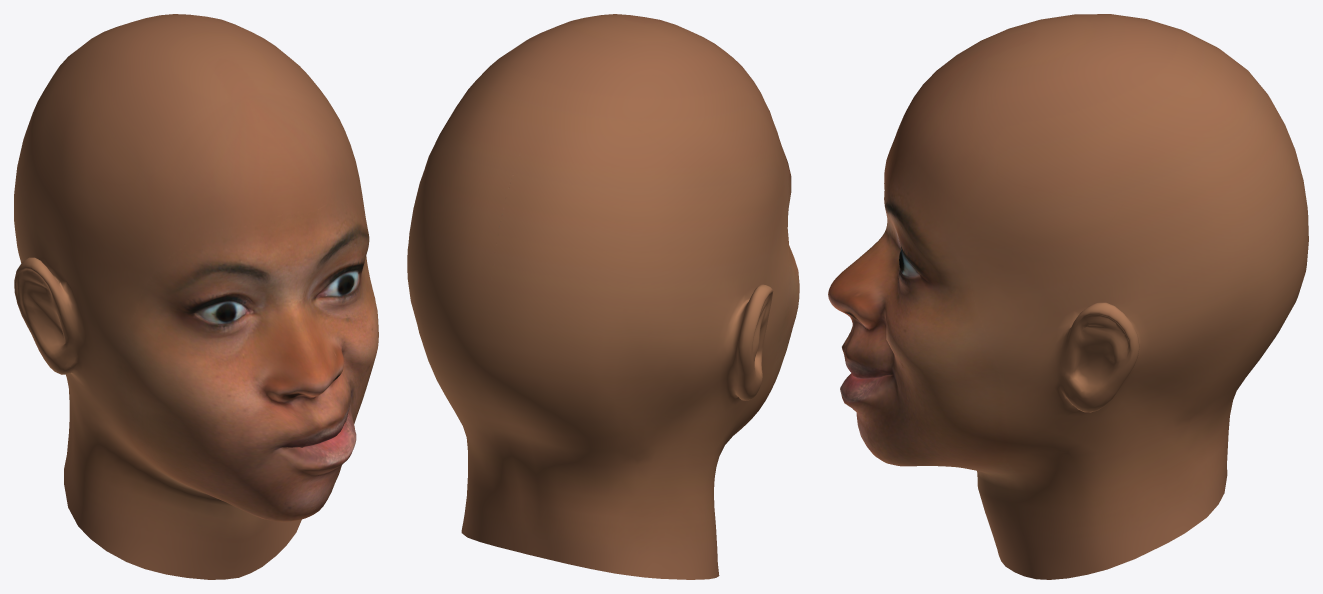
The model's file is v332_obj_ExpressionMouthLeft.obj.
3 views of the same model, side by side, from view 1: azimuth 30°, elevation 25°; view 2: azimuth 150°, elevation 25°; view 3: azimuth 270°, elevation 25° (orthographic). The views are drawn at different scales.
Parts seen in each view (by area): view 1: HeadHires; view 2: HeadHires; view 3: HeadHires.
Part boxes in pixels (left/top/right/bottom): HeadHires: left=14, top=14, right=378, bottom=579; HeadHires: left=407, top=14, right=799, bottom=579; HeadHires: left=828, top=14, right=1308, bottom=579.
Size of the model in its own units: 187 by 282 by 233.
